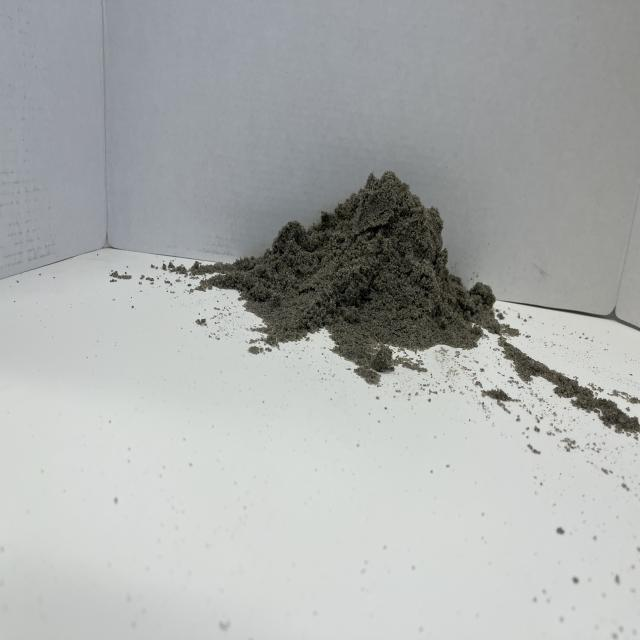sand: (222, 147, 518, 380)
